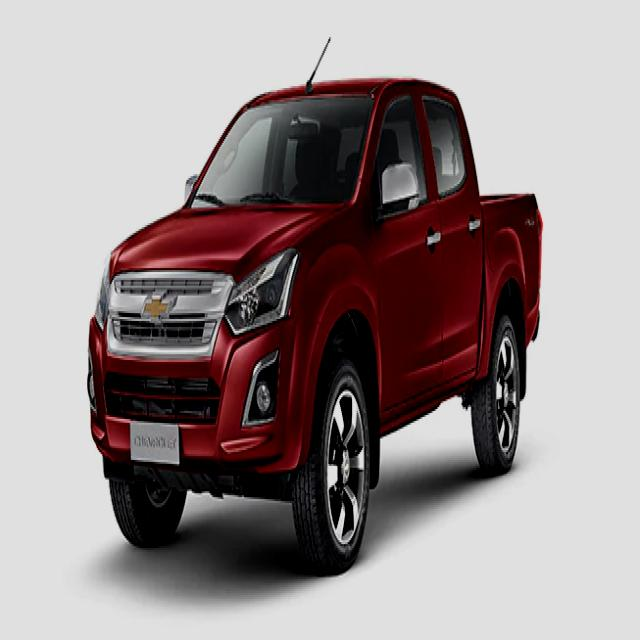CMT: (83, 81, 540, 547)
